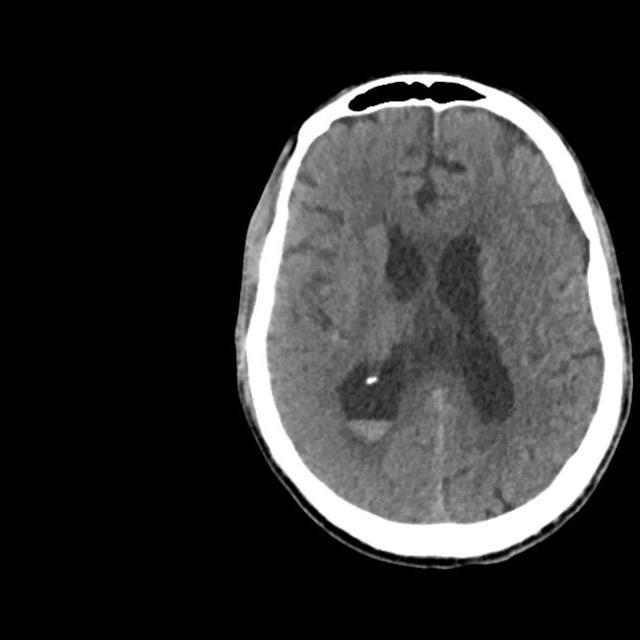lesion: (233, 70, 632, 565)
